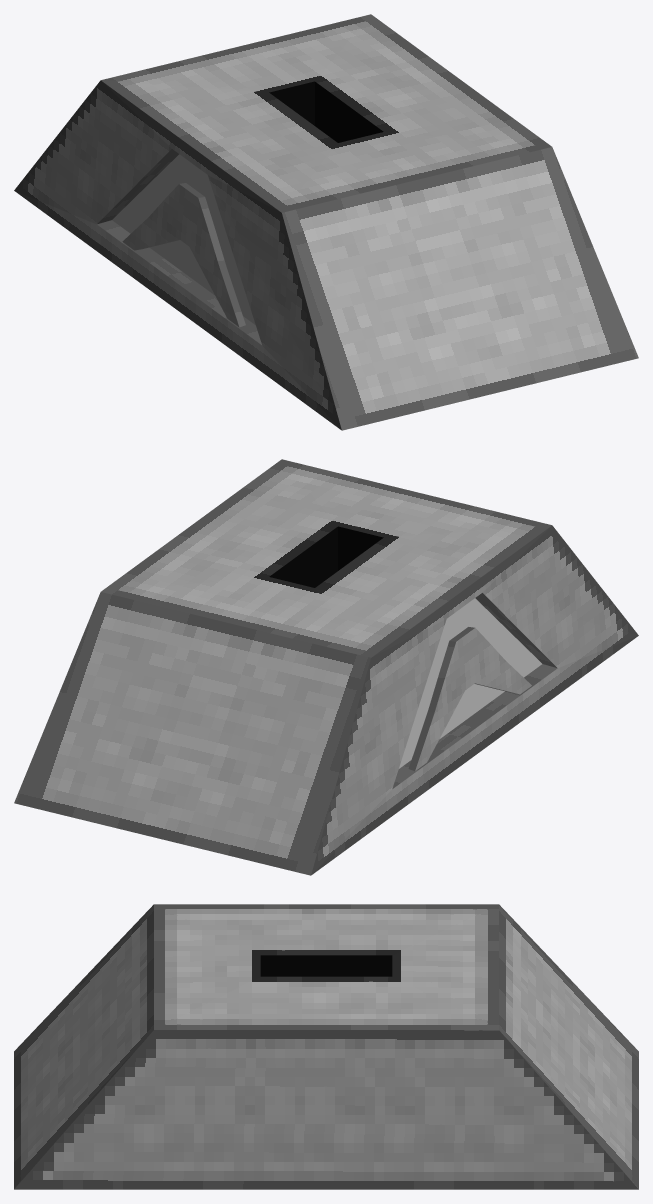
Rendered from swordpedestal.obj.
The picture shows the model from 3 angles, top to bottom: view 1: azimuth 30°, elevation 25°; view 2: azimuth 150°, elevation 25°; view 3: azimuth 270°, elevation 25°; orthographic projection. The views are drawn at different scales.
Parts seen in each view (by area): view 1: pedestal, color; view 2: pedestal, color; view 3: pedestal.
Part boxes in pixels (x1,y1,x2,y2): pedestal: (14,14,638,430); color: (112,154,255,324); pedestal: (14,459,638,875); color: (399,598,541,768); pedestal: (14,904,638,1189).
Size of the model in its own units: 0.4484 by 0.234 by 0.8576.
